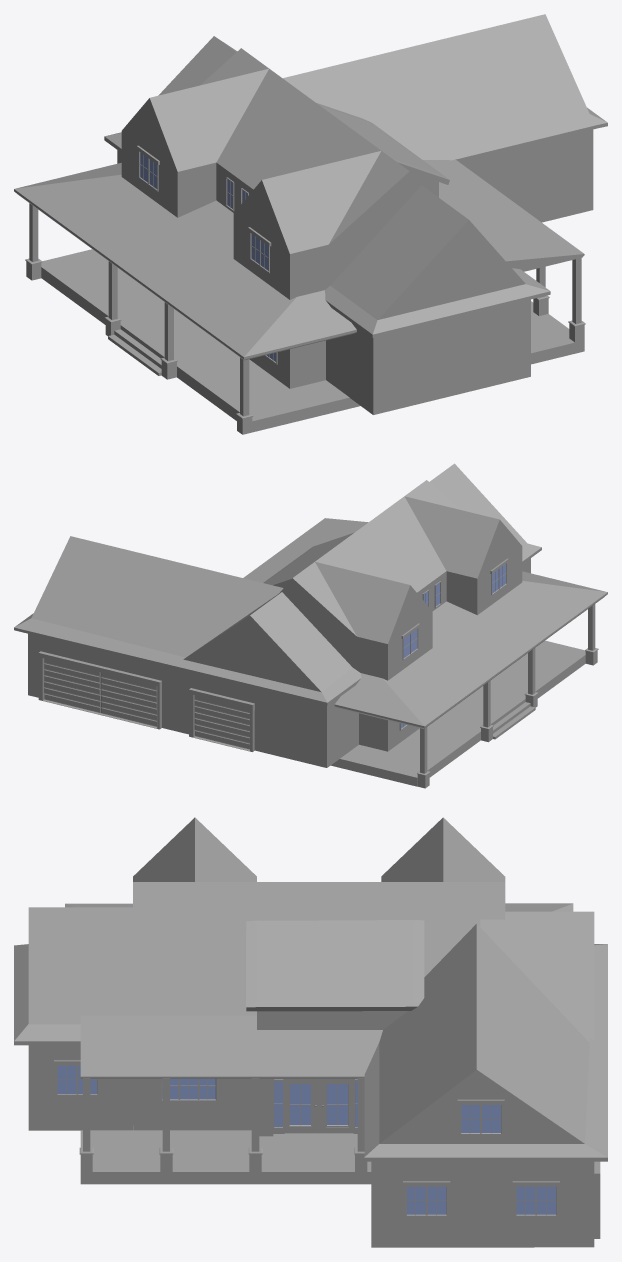
Rendered from N_House_4.fbx.
3 views of the same model, one above another, from view 1: azimuth 30°, elevation 25°; view 2: azimuth 150°, elevation 25°; view 3: azimuth 270°, elevation 25° (orthographic). The views are drawn at different scales.
Visible parts, largest first — view 1: N_House_4; view 2: N_House_4; view 3: N_House_4.
Boxes of the visible parts, x1,y1,x2,y2 form: N_House_4: (14, 14, 607, 434); N_House_4: (14, 463, 607, 788); N_House_4: (14, 817, 607, 1247).
Size of the model in its own units: 2312 by 884 by 2155.
